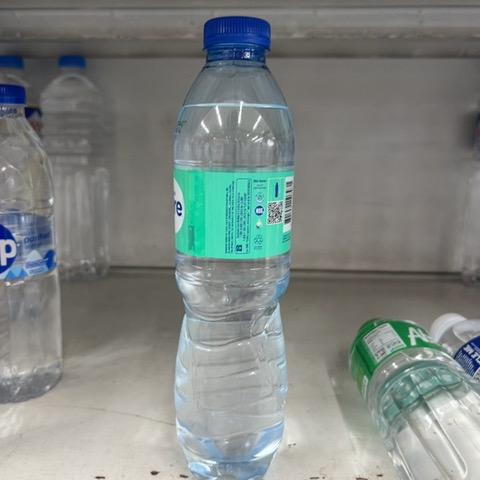Bottled Water: (168, 14, 298, 480), (348, 312, 480, 480), (0, 82, 68, 405), (424, 305, 480, 404)
